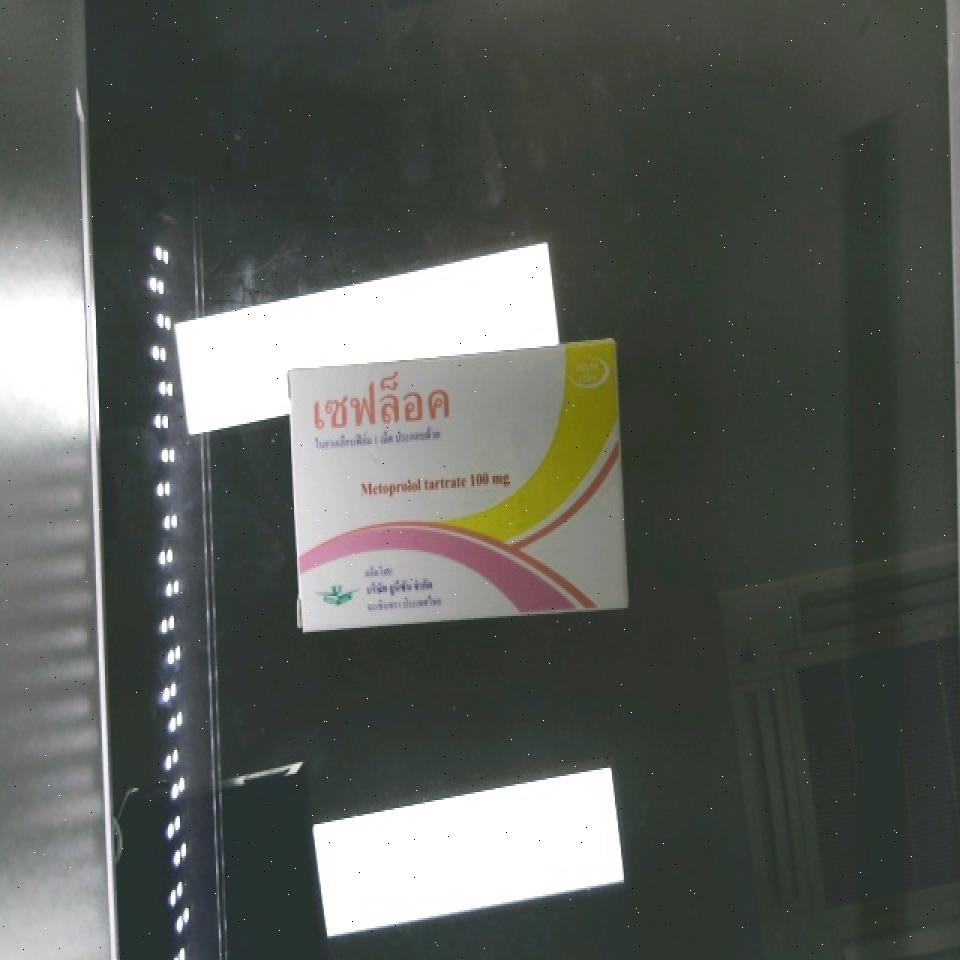medicine_box: (276, 339, 639, 636)
medicine_label_obb: (293, 357, 473, 446)
